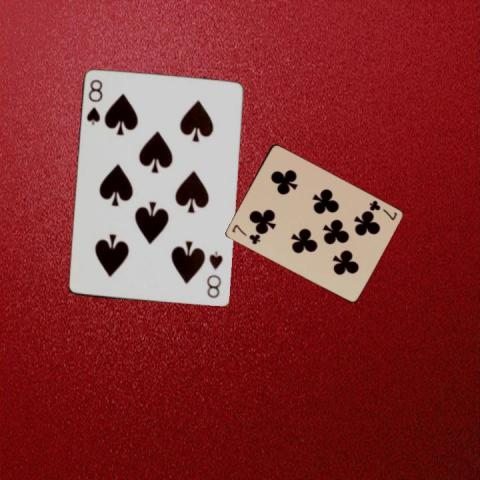7c: (366, 197, 398, 222), (229, 222, 261, 246)
8s: (84, 76, 105, 126), (204, 249, 224, 300)
